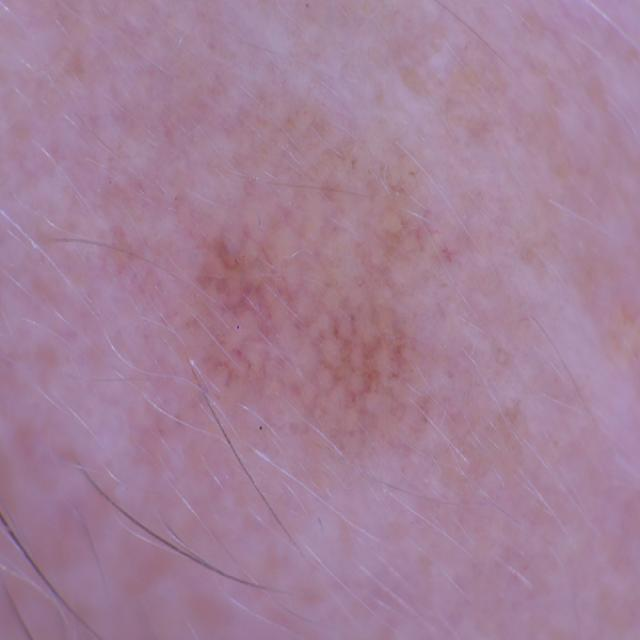Skin-Cancer Pigmented benign keratosis: (43, 52, 551, 640)
